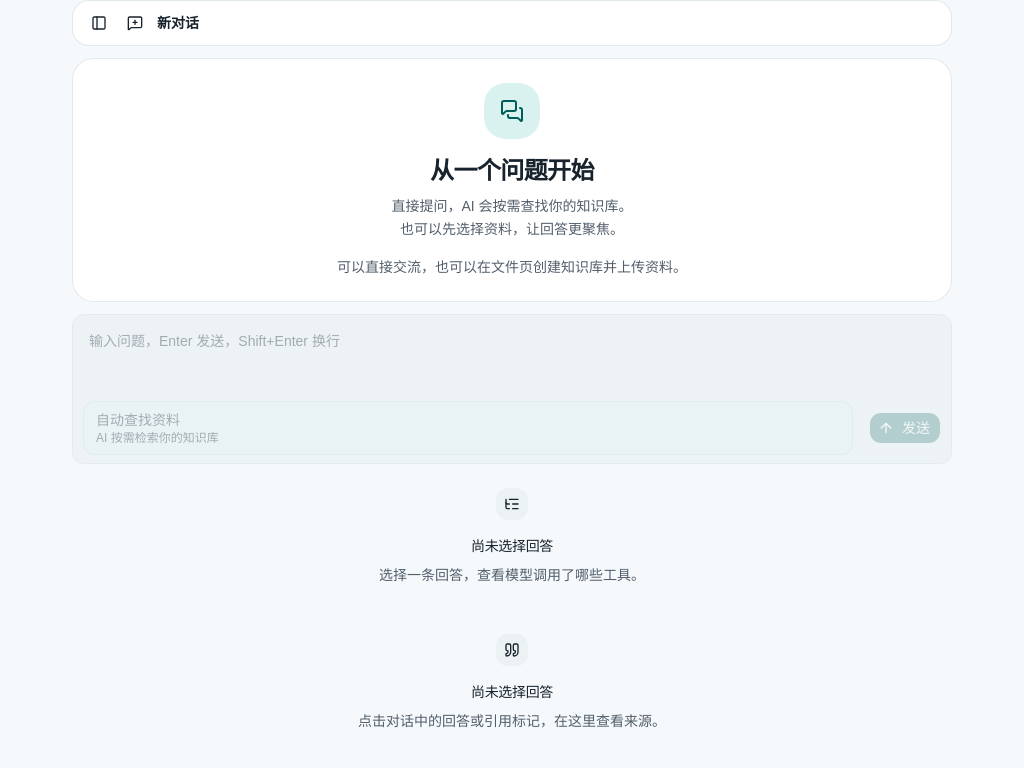
ChatView streaming › lets users start chatting without a knowledge base
This screenshot has width=1024, height=768.
In the text box labelled "问题": (512,354) [73, 314, 951, 394], type "解释一个通用概念"
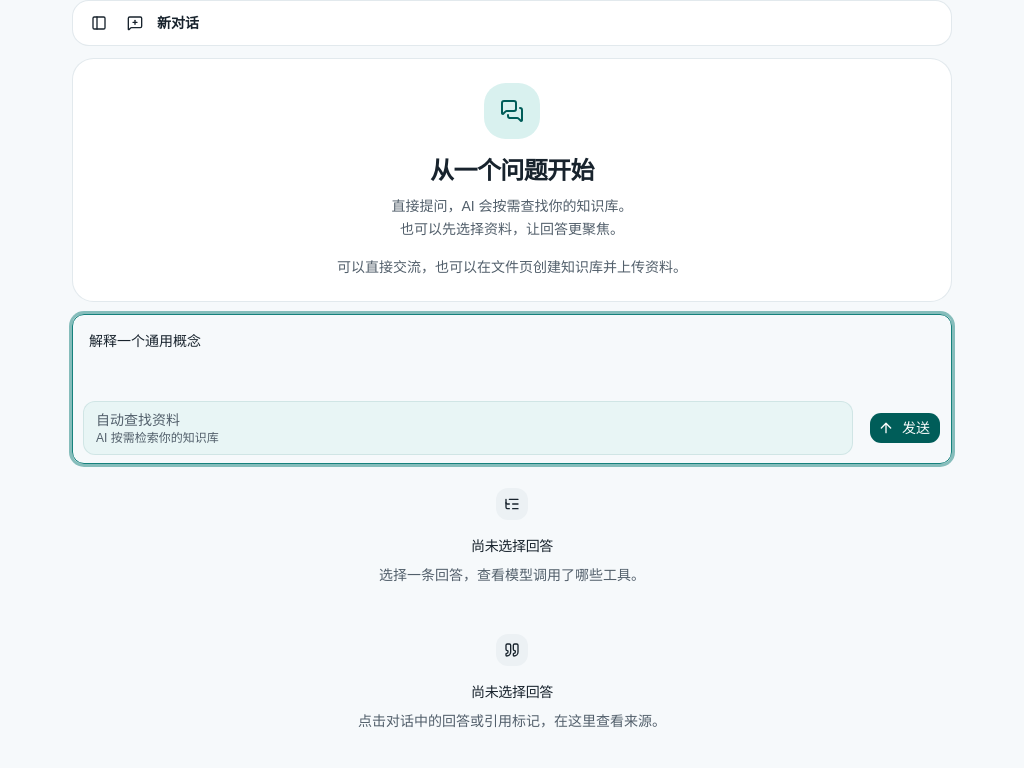
Expected: the text "自动查找资料" is shown, [96, 412, 180, 428]
Expected: the button "发送" is enabled, [869, 412, 941, 444]
